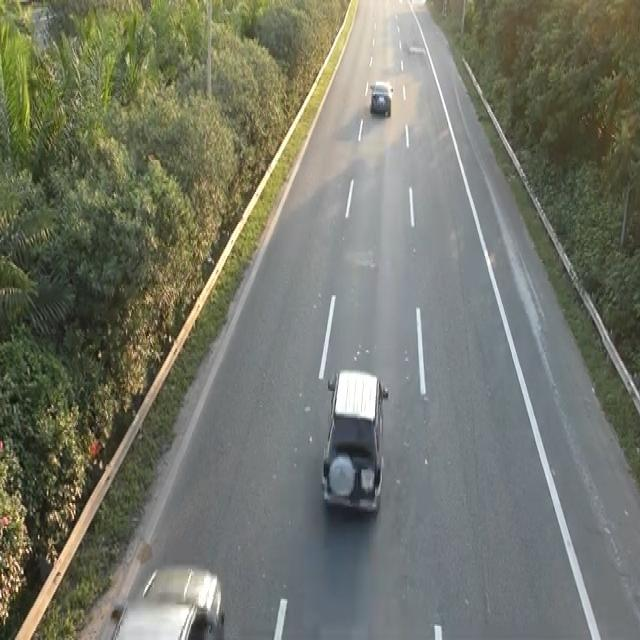bus: (107, 558, 226, 636)
car: (319, 367, 389, 518)
